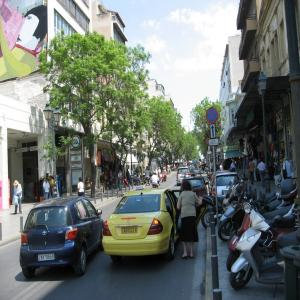Vehicle-registration-plate: (39, 254, 55, 263), (121, 228, 138, 234)
